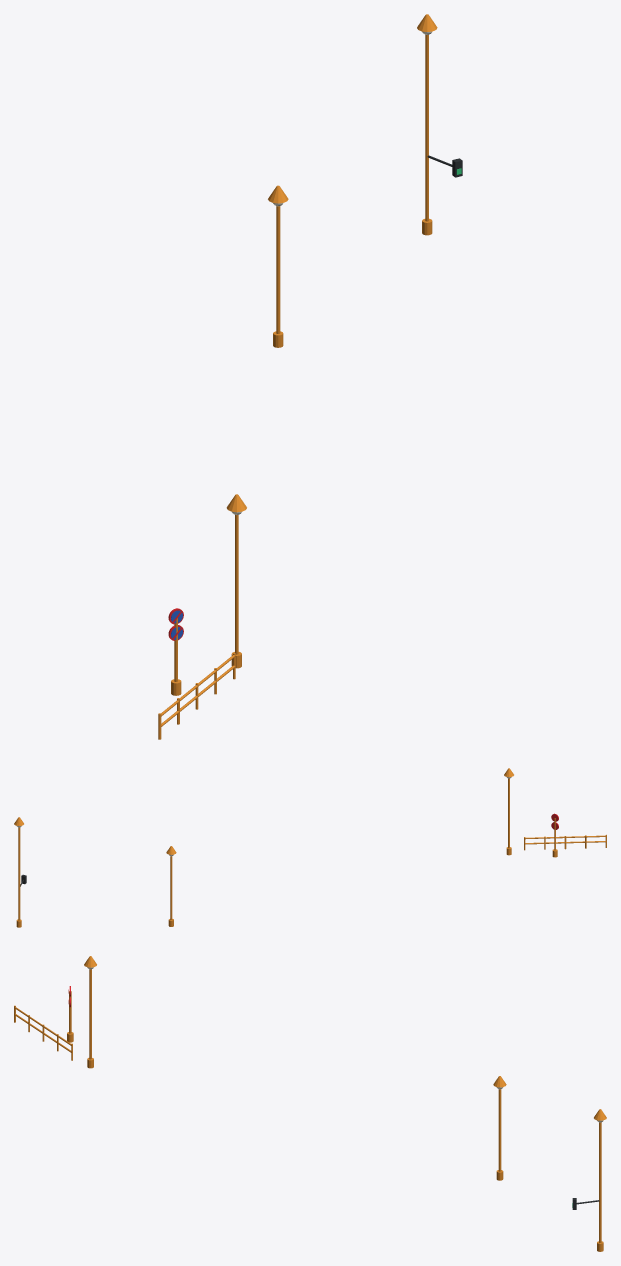
File: basic_projected.glb
The picture shows the model from 3 angles, top to bottom: view 1: azimuth 30°, elevation 25°; view 2: azimuth 150°, elevation 25°; view 3: azimuth 270°, elevation 25°; orthographic projection. The views are drawn at different scales.
Visible parts, largest first — view 1: street_provisional_pole; view 2: street_provisional_pole; view 3: street_provisional_pole.
Part boxes in pixels (x1=…): street_provisional_pole: x1=158, y1=14, x2=437, y2=739; street_provisional_pole: x1=14, y1=768, x2=606, y2=927; street_provisional_pole: x1=14, y1=956, x2=606, y2=1251.
Size of the model in its own units: 32.71 by 9.33 by 35.36.
